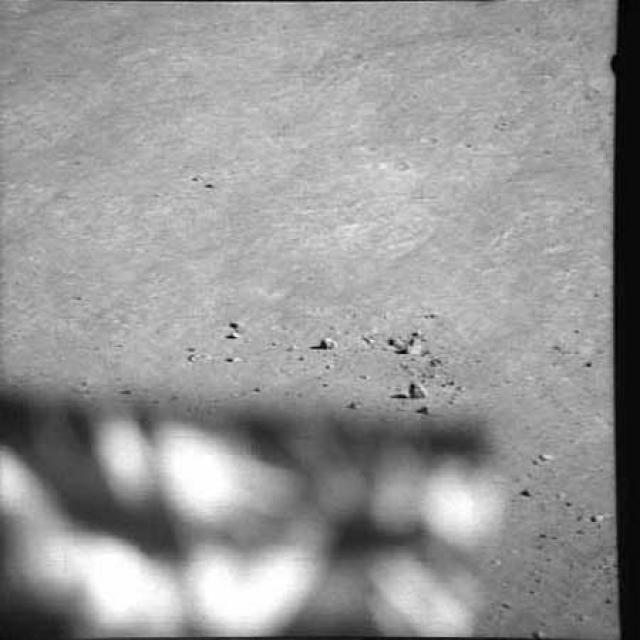rock: (398, 374, 432, 401), (308, 330, 343, 354)
